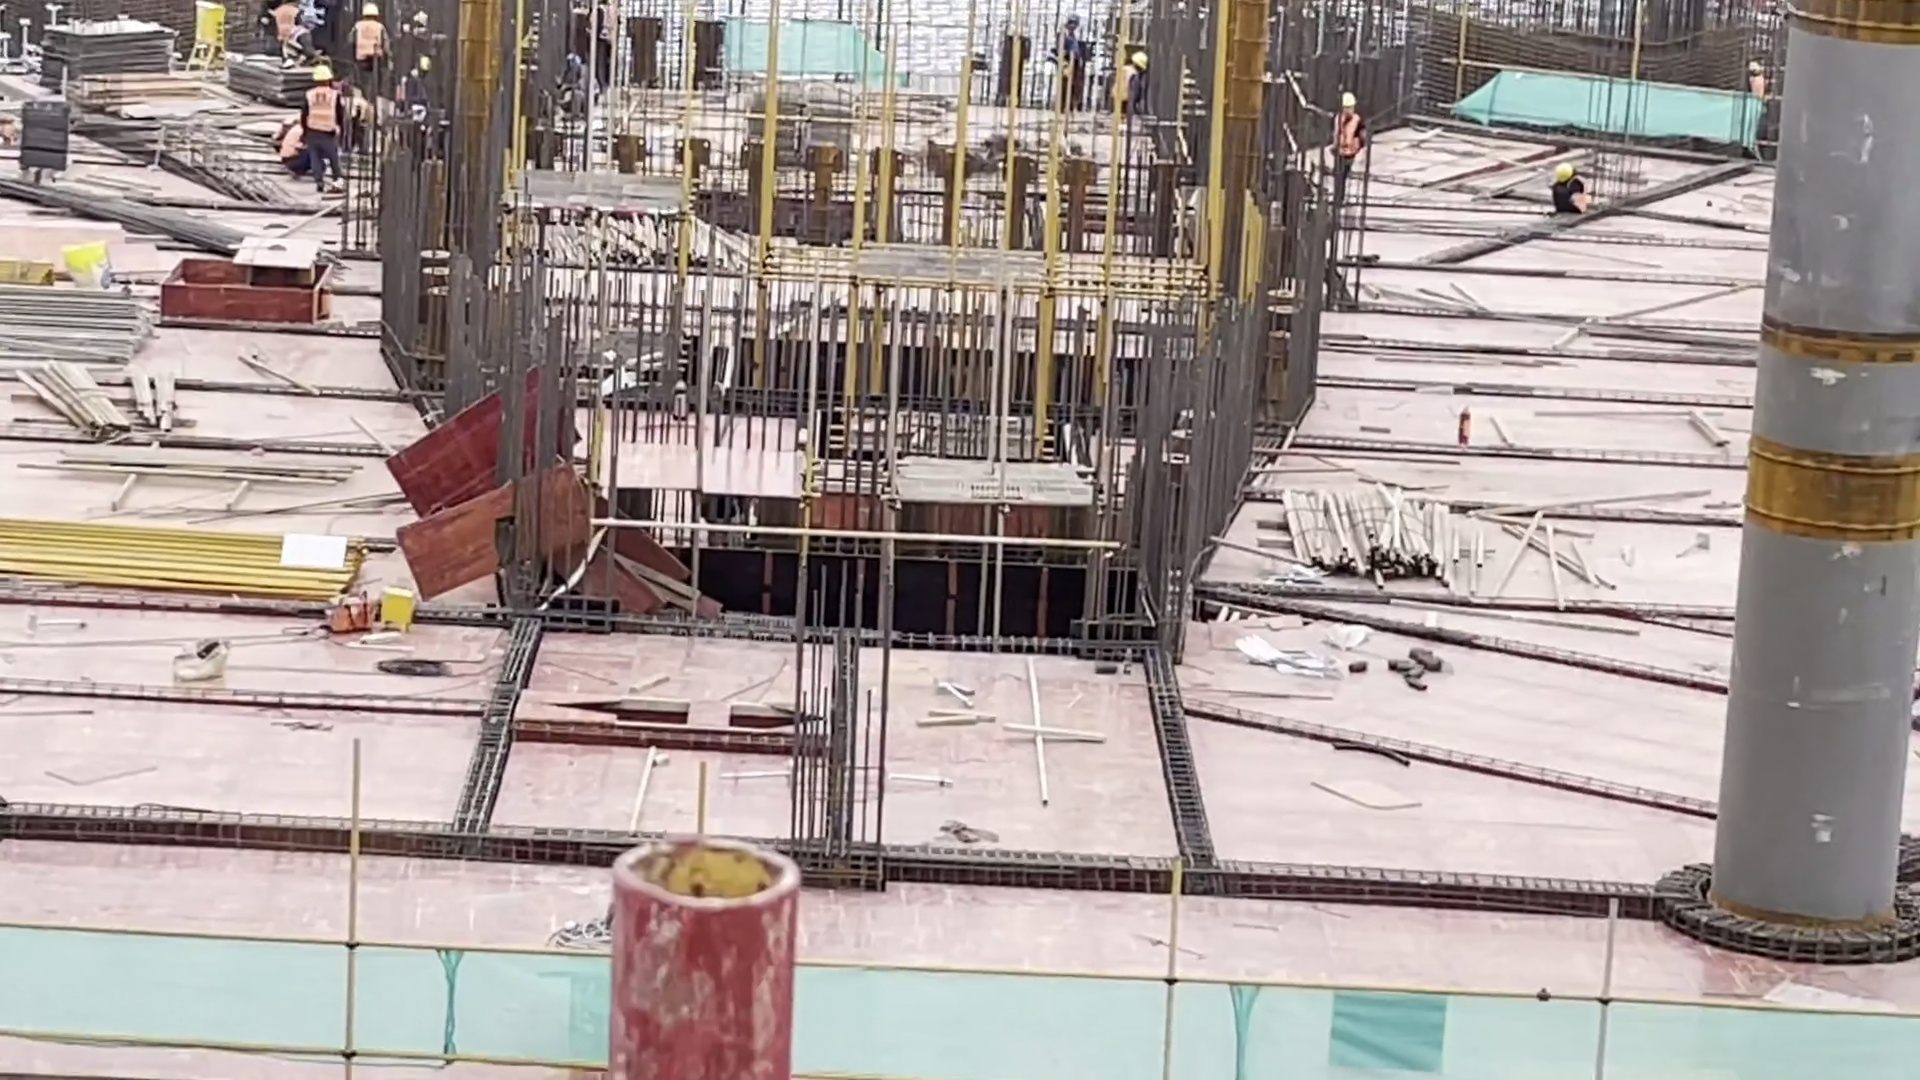board: (43, 22, 167, 83)
helmet: (1552, 163, 1575, 183), (1128, 53, 1151, 69), (310, 67, 329, 84), (1338, 90, 1355, 108), (301, 11, 319, 26), (1067, 14, 1081, 34), (417, 58, 433, 73), (362, 2, 379, 16), (567, 54, 582, 67)
person: (301, 65, 347, 191), (256, 2, 318, 73), (1322, 91, 1362, 201), (346, 5, 396, 91), (1051, 17, 1085, 112), (1105, 52, 1154, 116), (553, 51, 598, 120), (1547, 162, 1591, 218), (395, 54, 434, 115), (278, 115, 314, 179), (1744, 55, 1766, 101)
rebar: (1, 182, 273, 272)
vest: (302, 89, 335, 131), (1334, 110, 1358, 162), (278, 122, 303, 162)
